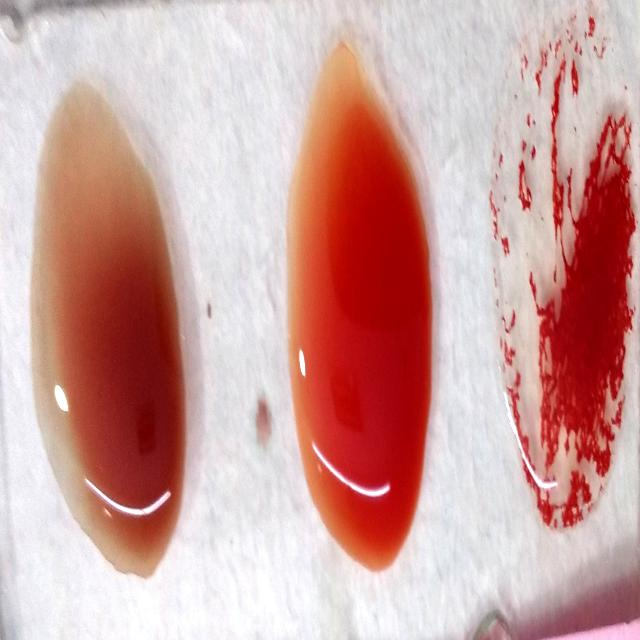D: (490, 29, 637, 526)
